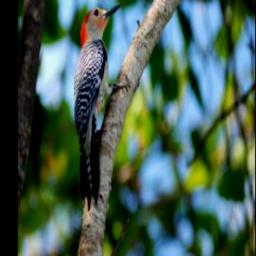Woodpecker: (74, 4, 130, 211)
